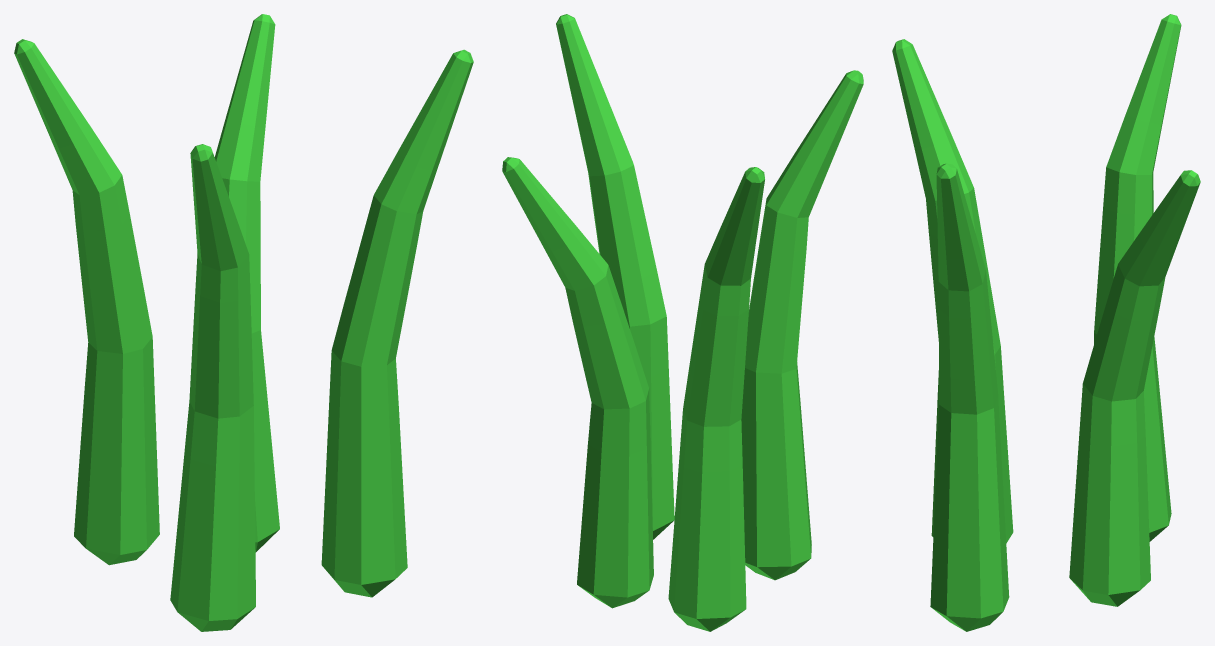
File: Grass2.fbx
3 views of the same model, side by side, from view 1: azimuth 30°, elevation 25°; view 2: azimuth 150°, elevation 25°; view 3: azimuth 270°, elevation 25° (orthographic). The views are drawn at different scales.
Parts seen in each view (by area): view 1: Vert.002; view 2: Vert.002; view 3: Vert.002.
Boxes of the visible parts, x1,y1,x2,y2 form: Vert.002: (14, 14, 473, 631); Vert.002: (502, 14, 863, 631); Vert.002: (892, 14, 1200, 631).
Bounding box in the file's own units: 17.22 × 25.74 × 14.35.
